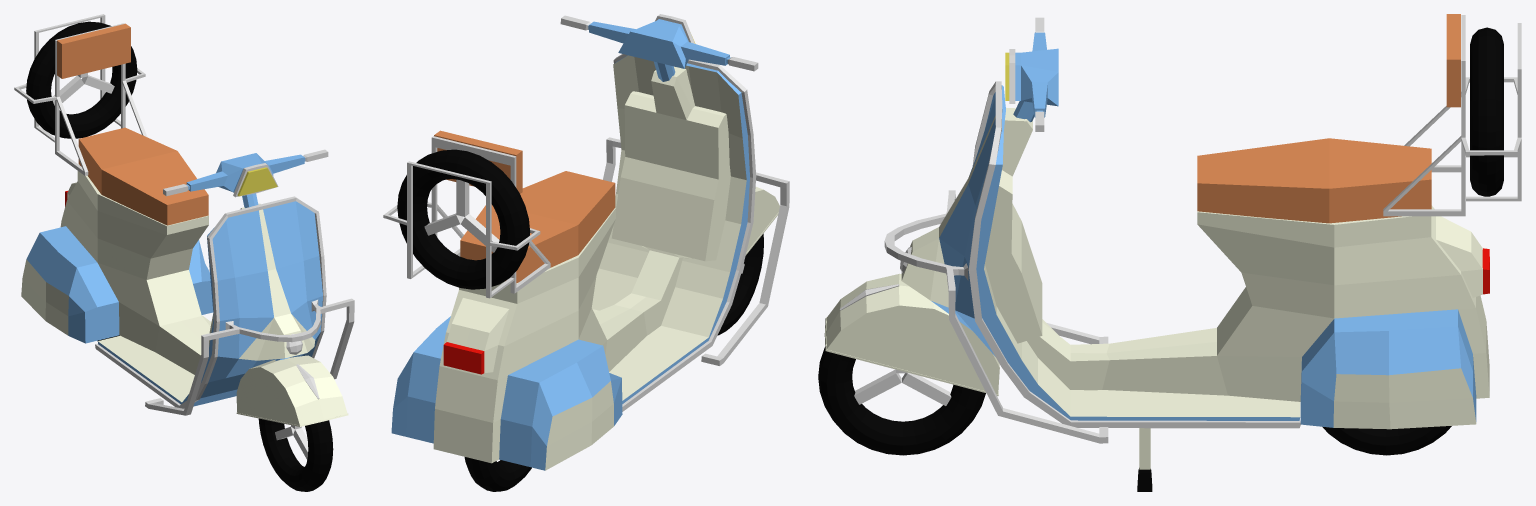
Rendered from bike_3.glb.
The picture shows the model from 3 angles, left to right: view 1: azimuth 30°, elevation 25°; view 2: azimuth 150°, elevation 25°; view 3: azimuth 270°, elevation 25°; orthographic projection. The views are drawn at different scales.
Visible parts, largest first — view 1: MotoBody; view 2: MotoBody; view 3: MotoBody.
Part boxes in pixels (x1,y1,x2,y2): MotoBody: (14,14,354,491); MotoBody: (383,14,789,491); MotoBody: (818,14,1521,491).
Size of the model in its own units: 0.4883 by 0.8867 by 1.35.
